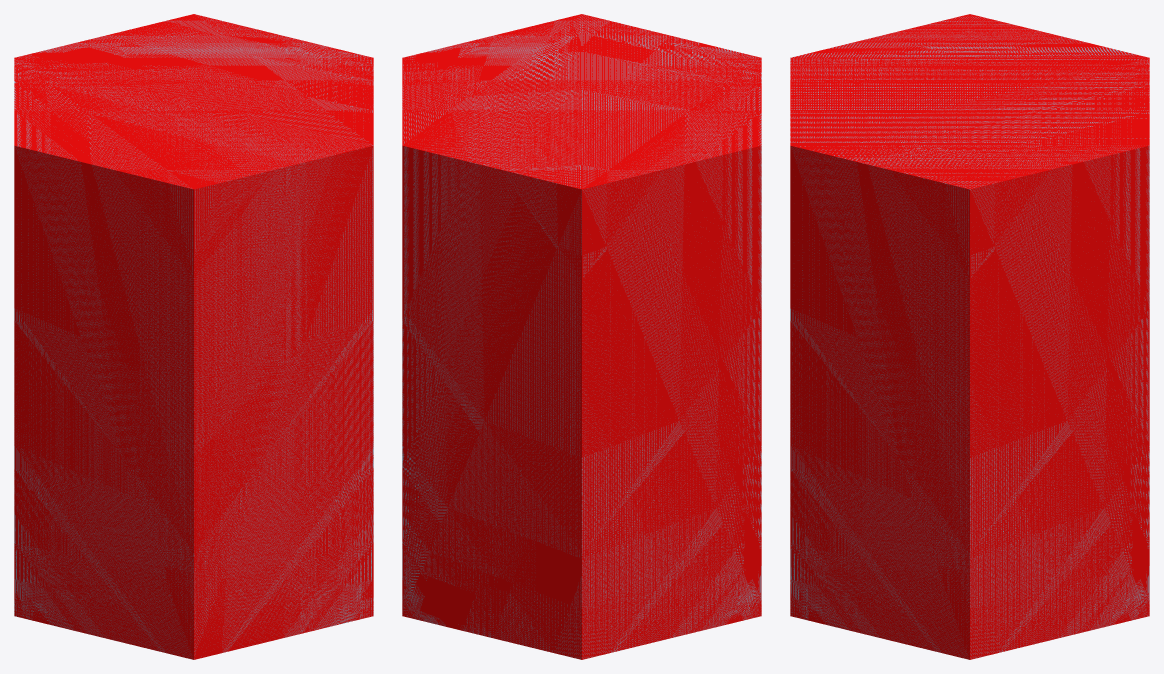
The model's file is prism.dae.
The picture shows the model from 3 angles, left to right: view 1: azimuth 30°, elevation 25°; view 2: azimuth 150°, elevation 25°; view 3: azimuth 270°, elevation 25°; orthographic projection.
Visible parts, largest first — view 1: skpCD3B; view 2: skpCD3B; view 3: skpCD3B.
Boxes of the visible parts, x1,y1,x2,y2 form: skpCD3B: (14, 14, 373, 659); skpCD3B: (402, 14, 761, 659); skpCD3B: (790, 14, 1149, 659).
Bounding box in the file's own units: 480 × 416 × 600.
